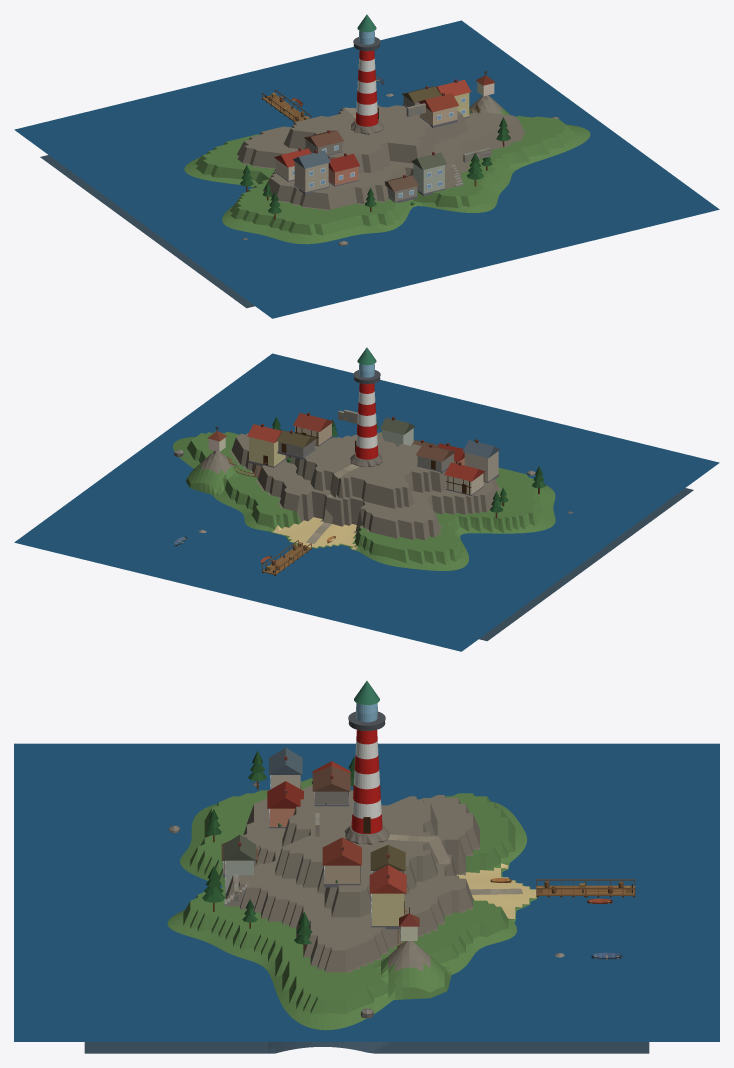
Rendered from scene_bad_v6_wall.obj.
3 renders of one model, top to bottom at view 1: azimuth 30°, elevation 25°; view 2: azimuth 150°, elevation 25°; view 3: azimuth 270°, elevation 25°, orthographic. The views are drawn at different scales.
Parts seen in each view (by area): view 1: water, terrain, lighthouse_tower, house_3_two_story, house_9_two_story, house_7_timber, house_4_timber, house_2_stone, house_8_stone, house_6_two_story, house_1_timber, house_5_stone; view 2: water, terrain, lighthouse_tower, house_6_two_story, house_3_two_story, house_1_timber, house_7_timber, house_5_stone, house_2_stone, house_9_two_story, path; view 3: water, terrain, lighthouse_tower, house_6_two_story, house_7_timber, house_2_stone, house_4_timber, house_9_two_story, house_3_two_story, path, house_5_stone, pier_2 (+1 smaller).
Part boxes in pixels (box(x1,y1,x2,y2)): water: box(14, 20, 719, 318); terrain: box(40, 95, 590, 308); lighthouse_tower: box(355, 50, 378, 126); house_3_two_story: box(293, 150, 330, 194); house_9_two_story: box(411, 152, 446, 195); house_7_timber: box(418, 92, 458, 127); house_4_timber: box(328, 153, 359, 186); house_2_stone: box(304, 130, 343, 156); house_8_stone: box(384, 175, 418, 202); house_6_two_story: box(436, 79, 471, 118); house_1_timber: box(274, 148, 311, 181); house_5_stone: box(402, 86, 441, 107); water: box(14, 353, 719, 651); terrain: box(173, 431, 693, 641); lighthouse_tower: box(355, 383, 378, 459); house_6_two_story: box(247, 423, 285, 467); house_3_two_story: box(462, 439, 500, 482); house_1_timber: box(444, 462, 485, 495); house_7_timber: box(293, 412, 333, 446); house_5_stone: box(276, 430, 316, 459); house_2_stone: box(416, 444, 455, 473); house_9_two_story: box(380, 416, 415, 446); path: box(306, 464, 359, 543); water: box(14, 743, 719, 1041); terrain: box(84, 778, 649, 1053); lighthouse_tower: box(351, 730, 382, 833); house_6_two_story: box(369, 865, 406, 929); house_7_timber: box(322, 837, 361, 887); house_2_stone: box(312, 766, 350, 806); house_4_timber: box(267, 781, 303, 828); house_9_two_story: box(223, 834, 255, 894); house_3_two_story: box(269, 747, 302, 789); path: box(387, 834, 522, 894); house_5_stone: box(370, 845, 405, 873); pier_2: box(586, 879, 635, 897).
Size of the model in its own units: 100 by 35.06 by 100.
